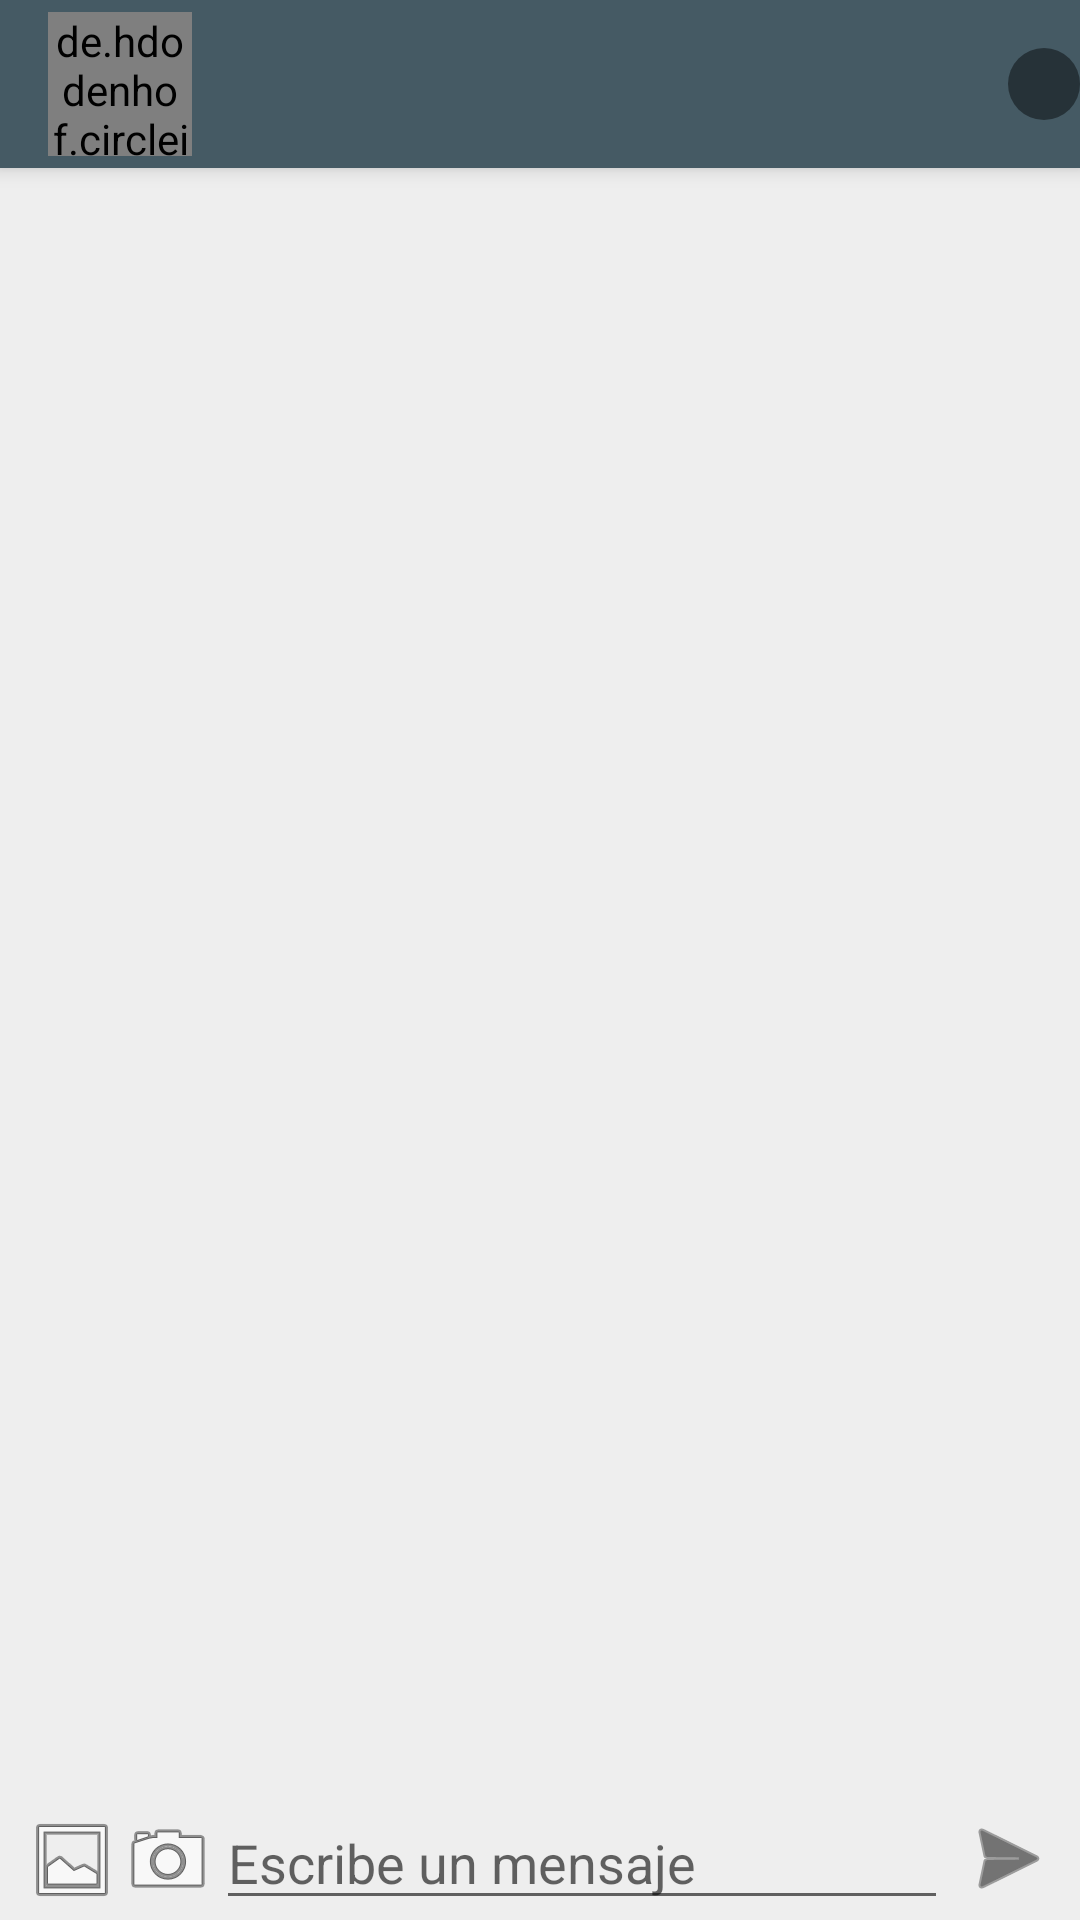

Screen size 1080px×1920px. Icon name, then its box in pixels as bbox(x1, y1, x2, y2):
camera: bbox(131, 1829, 205, 1888)
Enviar mensaje: bbox(978, 1828, 1040, 1889)
Seleccionar imagen desde la Galería: bbox(36, 1824, 108, 1896)
